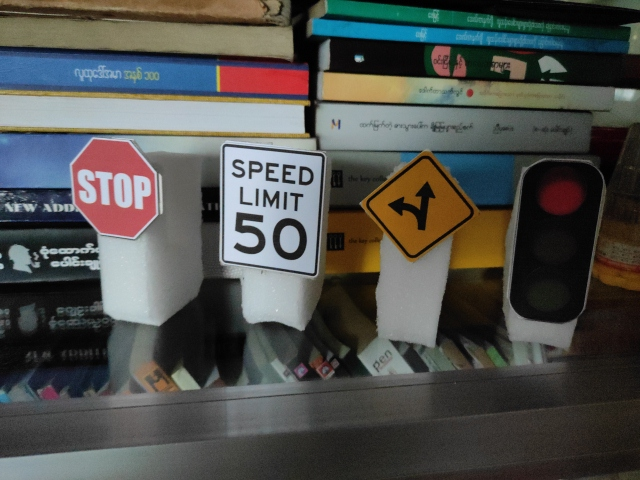Red Traffic Light: (509, 157, 606, 323)
Speed Limit 50: (219, 141, 328, 279)
Stop Sign: (71, 137, 161, 239)
Straight Or Left Sign: (364, 152, 478, 260)
